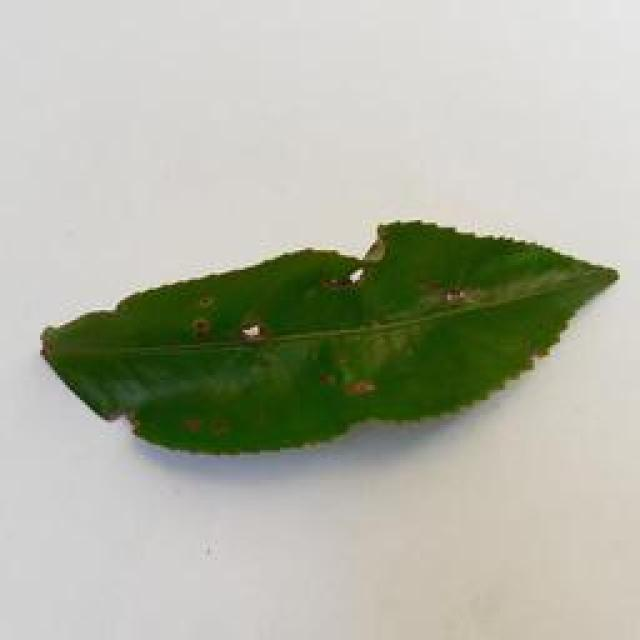Helopeltis: (37, 222, 620, 459)
